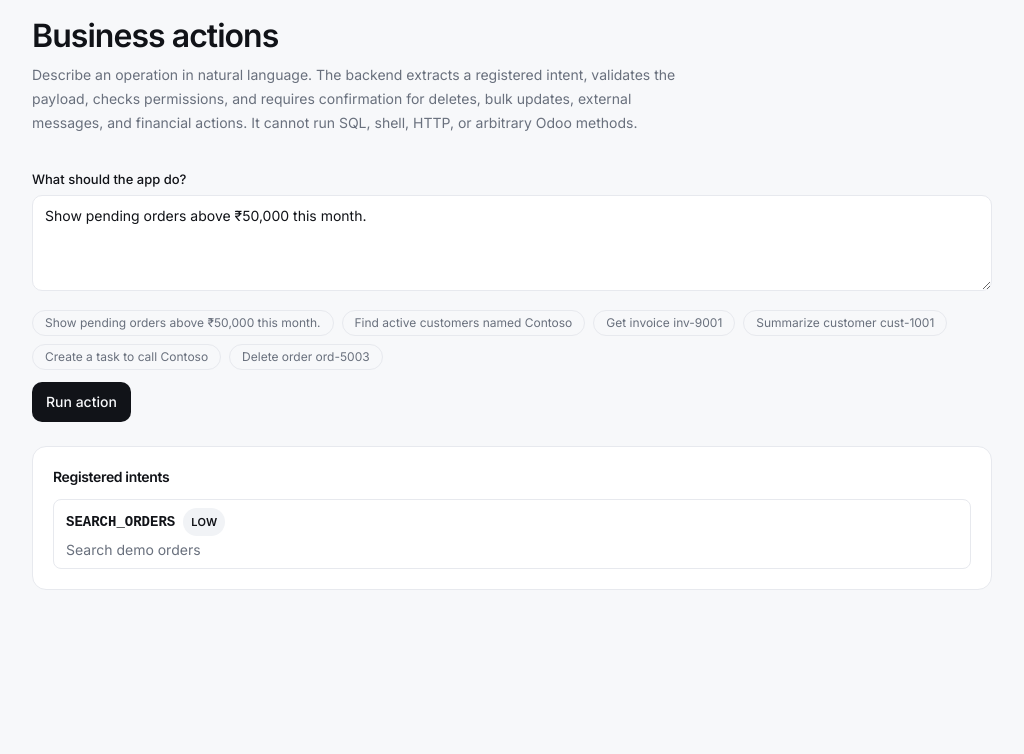
IntentsPage › loads the catalog and runs a natural-language action
The width and height of the screenshot is (1024, 754).
Expected: the text "SEARCH_ORDERS" is shown, [66,512,175,532]
Click the button "Run action". click: [81, 402]
box: [32,382,131,422]
(page scrolled)
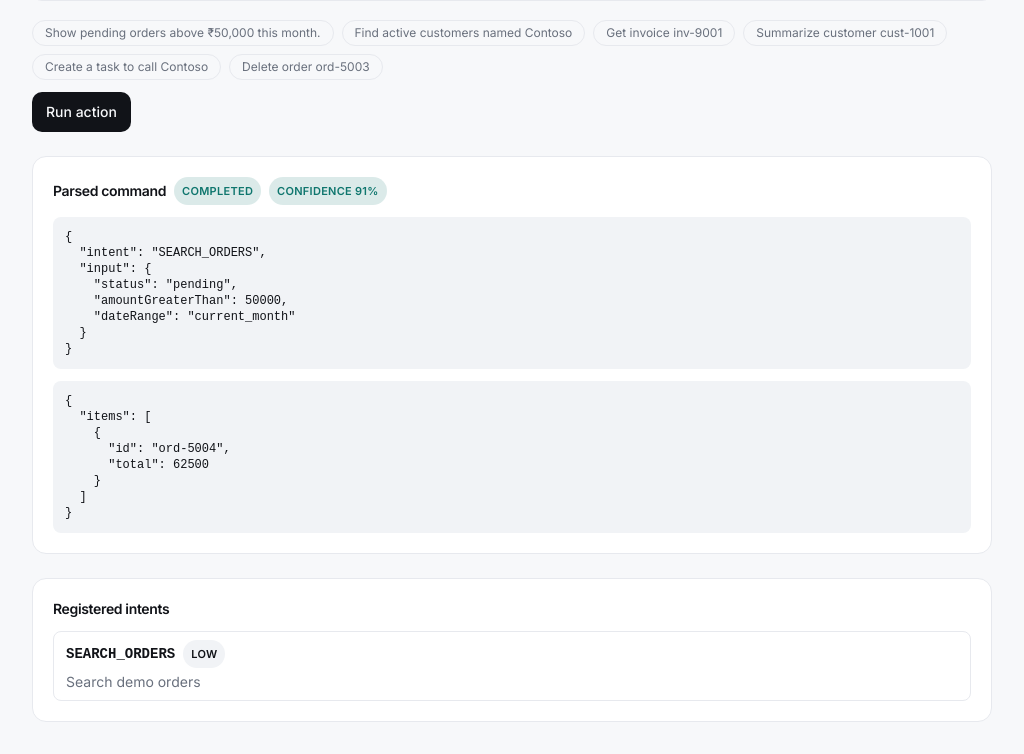
Expected: the text "SEARCH_ORDERS" is shown, [66,644,175,664]
Expected: the text "{ \"items\": [ { \"id\": \"ord-5004\", \"total\": 62500 } ] }" is shown, [53,381,971,533]
